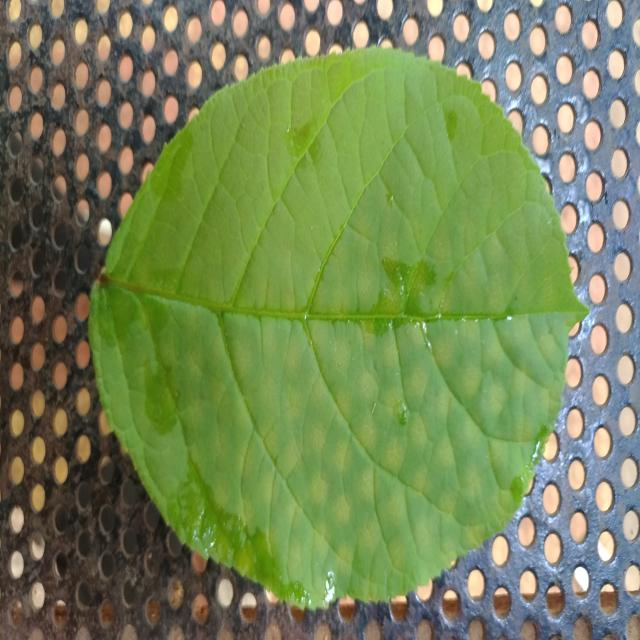padri: (90, 47, 586, 609)
